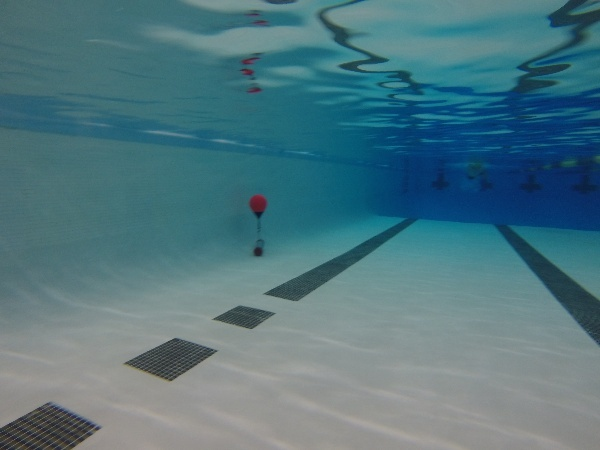buoy_red: (245, 192, 271, 220)
